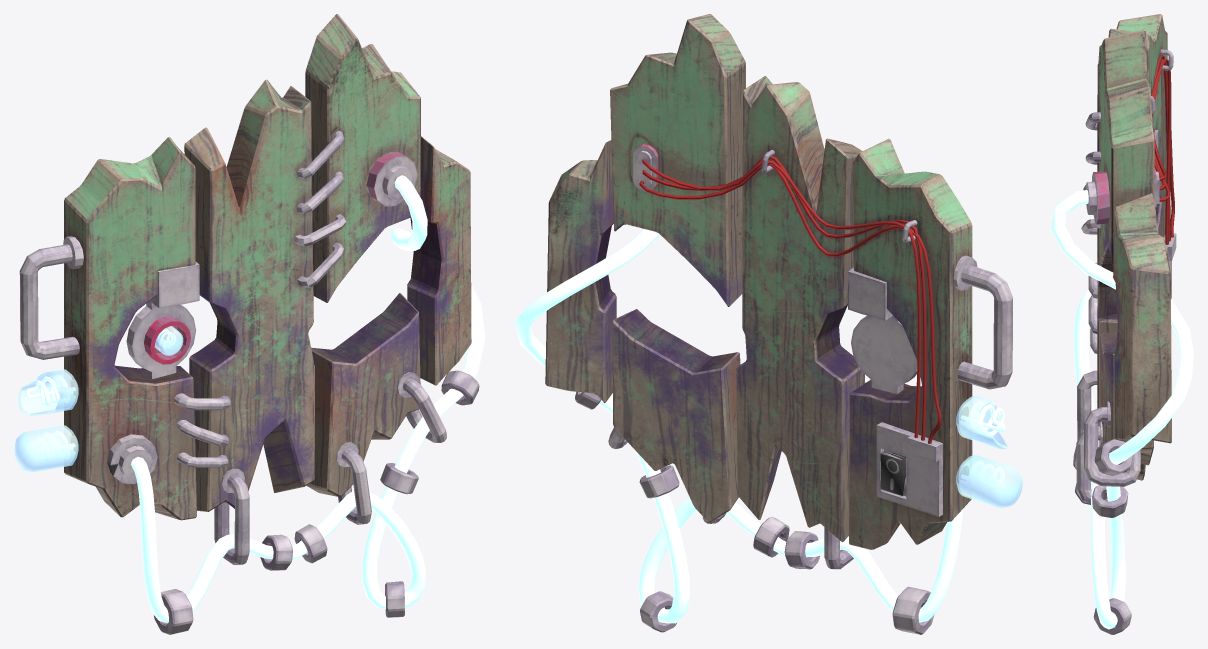
3 views of the same model, side by side, from view 1: azimuth 30°, elevation 25°; view 2: azimuth 150°, elevation 25°; view 3: azimuth 270°, elevation 25° (orthographic). The views are drawn at different scales.
Parts seen in each view (by area): view 1: Cube, Cylinder.006, BezierCurve, tooth_ring.004, Cylinder, Cylinder.008, BezierCurve.001; view 2: Cube, BezierCurve, Cylinder.006, Cylinder, tooth_ring.004, Cube.001, Cylinder.008, BezierCurve.002, BezierCurve.004, BezierCurve.003, BezierCurve.001; view 3: Cube, BezierCurve, Cylinder.006, tooth_ring.004, BezierCurve.004, BezierCurve.002, BezierCurve.003, Cube.001.
Boxes of the visible parts, bbox=[...] form: Cube: bbox=[64, 14, 471, 520]; Cylinder.006: bbox=[19, 131, 446, 565]; BezierCurve: bbox=[131, 175, 485, 622]; tooth_ring.004: bbox=[154, 370, 479, 634]; Cylinder: bbox=[126, 261, 199, 378]; Cylinder.008: bbox=[14, 326, 183, 472]; BezierCurve.001: bbox=[25, 375, 74, 462]; Cube: bbox=[545, 14, 972, 549]; BezierCurve: bbox=[514, 229, 963, 623]; Cylinder.006: bbox=[608, 144, 1012, 569]; Cylinder: bbox=[848, 267, 917, 393]; tooth_ring.004: bbox=[575, 391, 934, 634]; Cube.001: bbox=[876, 422, 942, 516]; Cylinder.008: bbox=[956, 396, 1022, 508]; BezierCurve.002: bbox=[639, 164, 941, 443]; BezierCurve.004: bbox=[642, 159, 921, 437]; BezierCurve.003: bbox=[642, 156, 926, 440]; BezierCurve.001: bbox=[960, 402, 1005, 495]; Cube: bbox=[1097, 14, 1171, 480]; BezierCurve: bbox=[1051, 190, 1193, 629]; Cylinder.006: bbox=[1076, 112, 1159, 503]; tooth_ring.004: bbox=[1073, 439, 1133, 634]; BezierCurve.004: bbox=[1151, 58, 1171, 244]; BezierCurve.002: bbox=[1152, 59, 1174, 237]; BezierCurve.003: bbox=[1153, 55, 1170, 241]; Cube.001: bbox=[1164, 233, 1176, 298].
Bounding box in the file's own units: 944 × 1158 × 257.
